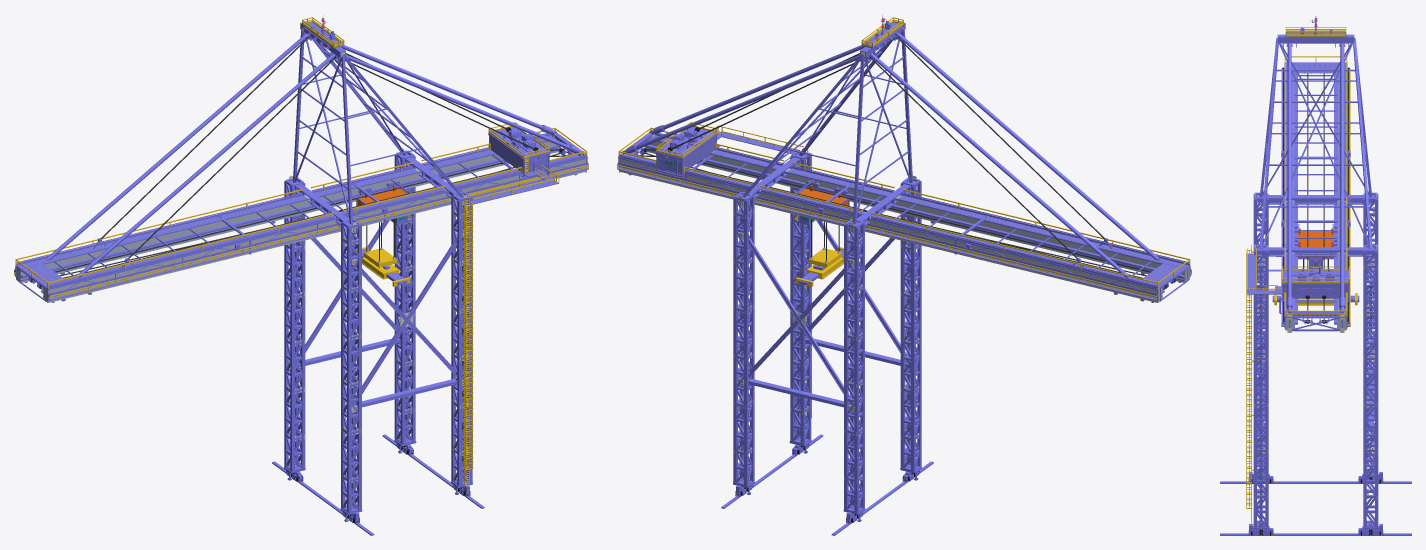
Rendered from STS_Crane.fbx.
The picture shows the model from 3 angles, left to right: view 1: azimuth 30°, elevation 25°; view 2: azimuth 150°, elevation 25°; view 3: azimuth 270°, elevation 25°; orthographic projection. The views are drawn at different scales.
Parts seen in each view (by area): view 1: Forestay_TieBar, Boom_Girder_Luff_2, Boom_Girder_Luff_1, Boom_Girder_2, Leg_Post_16, Leg_Post_8, Boom_Girder_1, Walkway_Deck_4, Leg_Post_14, Leg_Post_12, Leg_Post_10, Leg_Post_4 (+15 smaller); view 2: Forestay_TieBar, Boom_Girder_Luff_1, Boom_Girder_Luff_2, Boom_Girder_1, Leg_Post_11, Leg_Post_3, Boom_Girder_2, Walkway_Deck_8, Leg_Post_1, Leg_Post_9, Leg_Post_15, Leg_Post_13 (+17 smaller); view 3: Backstay_TieBar_1, Backstay_TieBar_2, Leg_Post_2, Leg_Post_1, Leg_Post_5, Leg_Post_6, Aframe_1, Aframe_2, Walkway_Deck_4, Walkway_Deck_8, Trolley_Body_1, Apex_1 (+29 smaller).
Boxes of the visible parts, left/top/right/bottom form: Forestay_TieBar: left=46, top=33, right=335, bottom=279; Boom_Girder_Luff_2: left=43, top=215, right=338, bottom=302; Boom_Girder_Luff_1: left=16, top=195, right=311, bottom=282; Boom_Girder_2: left=339, top=159, right=586, bottom=231; Leg_Post_16: left=347, top=227, right=351, bottom=513; Leg_Post_8: left=457, top=200, right=461, bottom=486; Boom_Girder_1: left=312, top=141, right=559, bottom=211; Walkway_Deck_4: left=16, top=195, right=306, bottom=268; Leg_Post_14: left=357, top=224, right=361, bottom=510; Leg_Post_12: left=290, top=185, right=294, bottom=471; Leg_Post_10: left=300, top=183, right=305, bottom=469; Leg_Post_4: left=400, top=158, right=405, bottom=444; Forestay_TieBar: left=870, top=33, right=1159, bottom=279; Boom_Girder_Luff_1: left=867, top=215, right=1162, bottom=302; Boom_Girder_Luff_2: left=894, top=195, right=1189, bottom=282; Boom_Girder_1: left=619, top=159, right=866, bottom=231; Leg_Post_11: left=854, top=227, right=858, bottom=513; Leg_Post_3: left=744, top=200, right=748, bottom=486; Boom_Girder_2: left=646, top=141, right=893, bottom=211; Walkway_Deck_8: left=899, top=195, right=1189, bottom=268; Leg_Post_1: left=733, top=197, right=737, bottom=483; Leg_Post_9: left=844, top=224, right=848, bottom=510; Leg_Post_15: left=911, top=185, right=915, bottom=471; Leg_Post_13: left=900, top=183, right=905, bottom=469; Backstay_TieBar_1: left=1340, top=43, right=1344, bottom=312; Backstay_TieBar_2: left=1287, top=43, right=1291, bottom=312; Leg_Post_2: left=1363, top=250, right=1366, bottom=527; Leg_Post_1: left=1375, top=251, right=1378, bottom=527; Leg_Post_5: left=1265, top=250, right=1268, bottom=527; Leg_Post_6: left=1253, top=251, right=1256, bottom=527; Aframe_1: left=1353, top=38, right=1372, bottom=248; Aframe_2: left=1259, top=38, right=1278, bottom=248; Walkway_Deck_4: left=1338, top=62, right=1346, bottom=194; Walkway_Deck_8: left=1285, top=62, right=1293, bottom=194; Trolley_Body_1: left=1298, top=231, right=1333, bottom=257; Apex_1: left=1277, top=34, right=1354, bottom=43.
Size of the model in its own units: 367 by 315 by 117.
16 materials, 4 textured.
